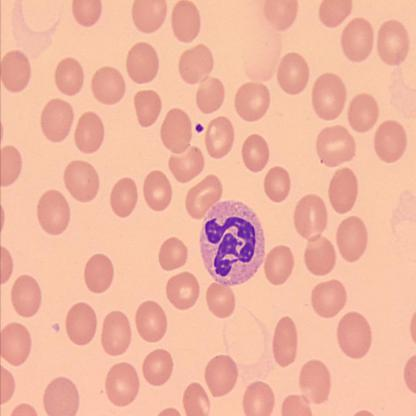Segmented neutrophil: (198, 198, 268, 287)
